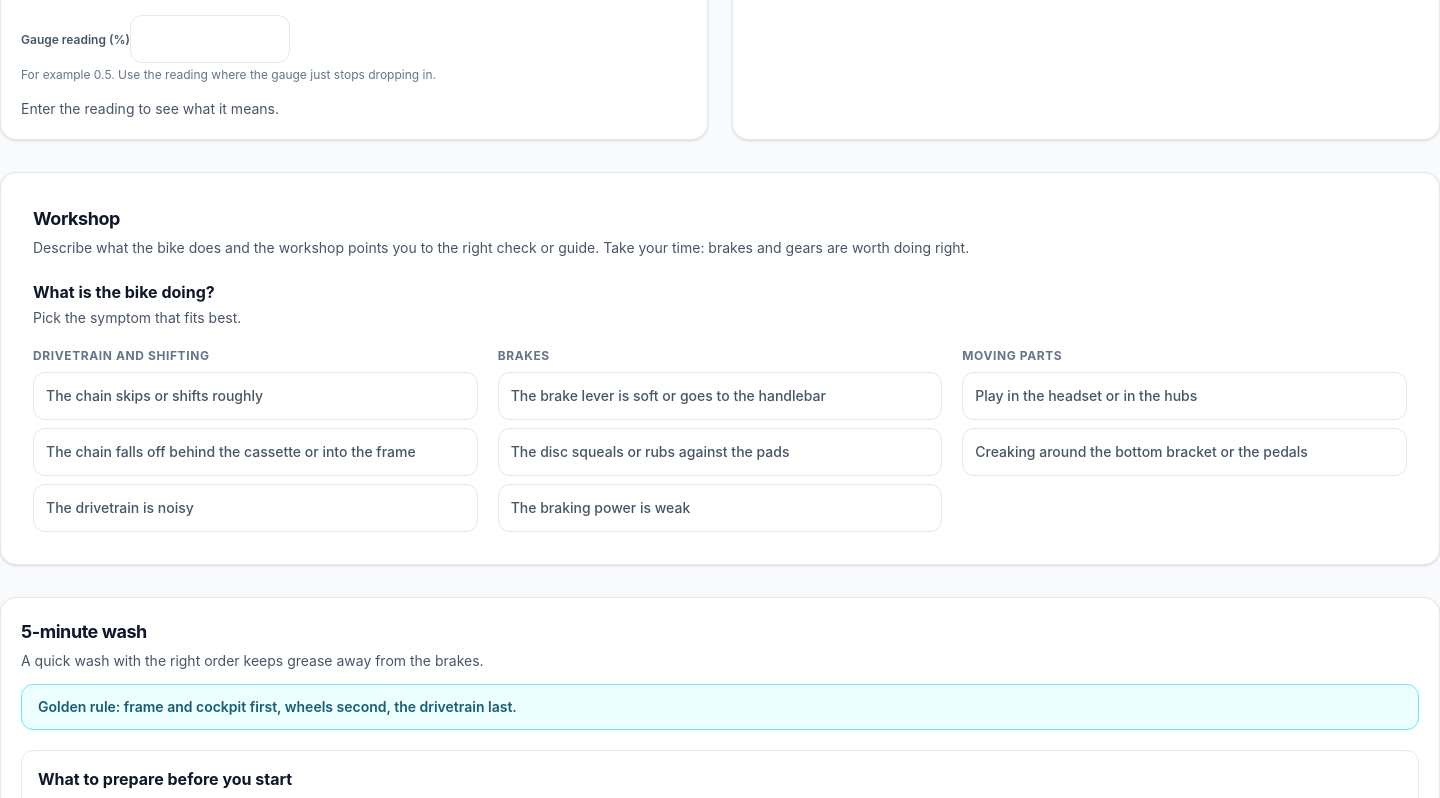
Test: the workshop of bAIkcare (en) › the troubleshooter › should list the eight symptoms in three groups and show the cause and the checks of the chosen one
(page scrolled)
Step 1. Click the button with test id "symptom-spongyLever" → (720, 396), box [498,372,942,420]
(page scrolled)
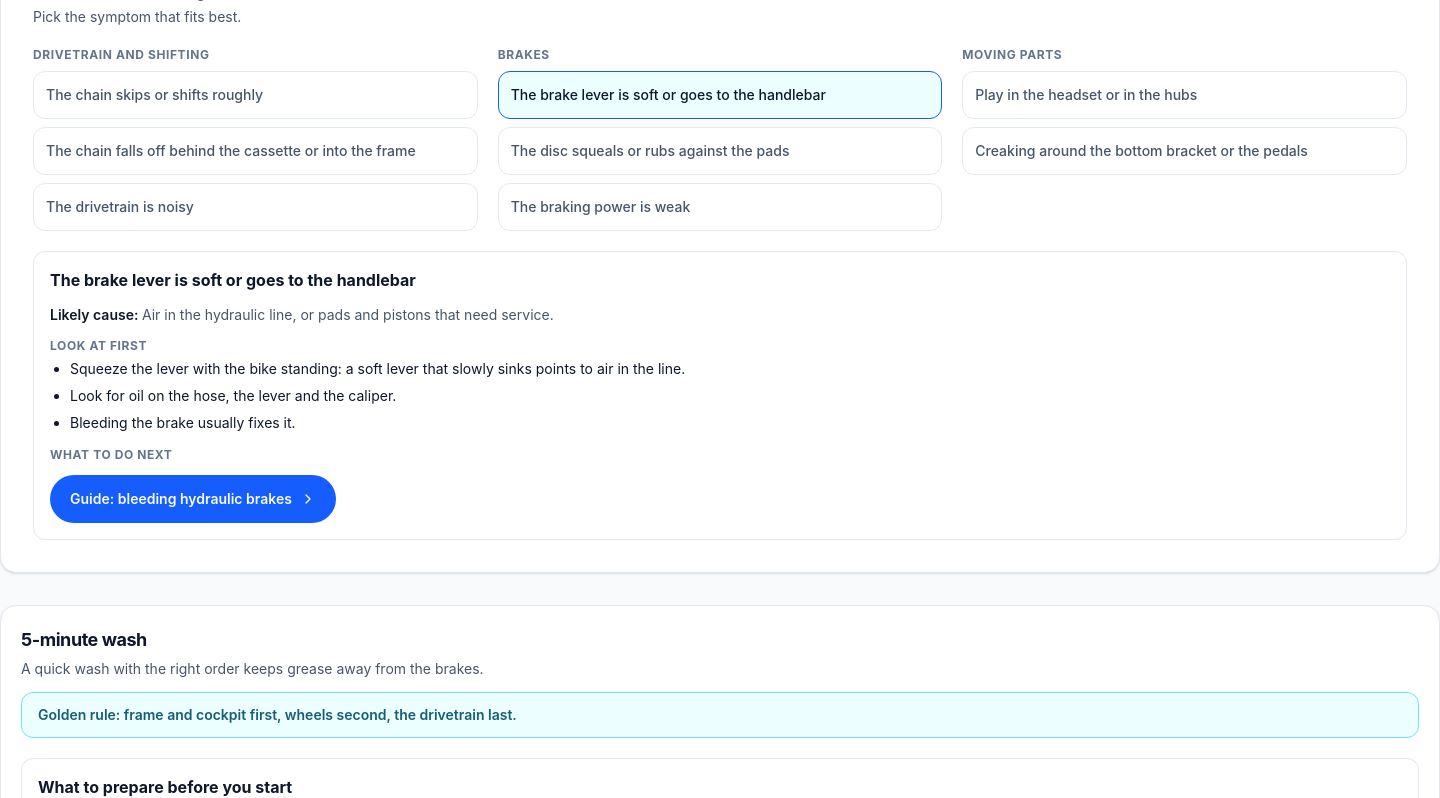
Result: the element with test id "symptom-advice" shows "Air in the hydraulic line, or pads and pistons that need service." at [142,306,554,322]
